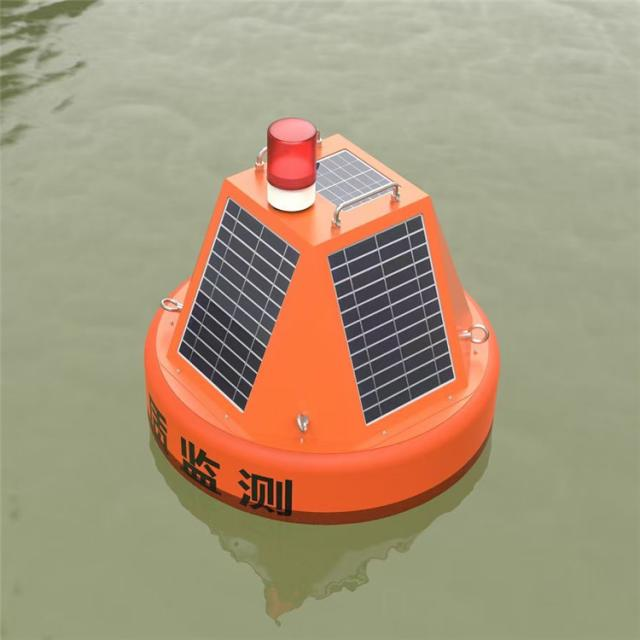buoy: (143, 112, 500, 519)
